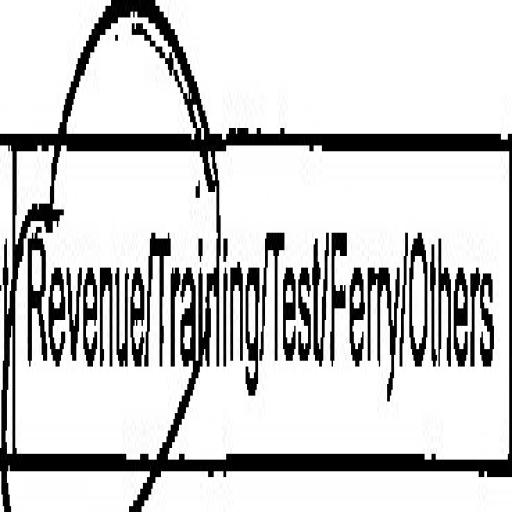check: (0, 0, 153, 512)
